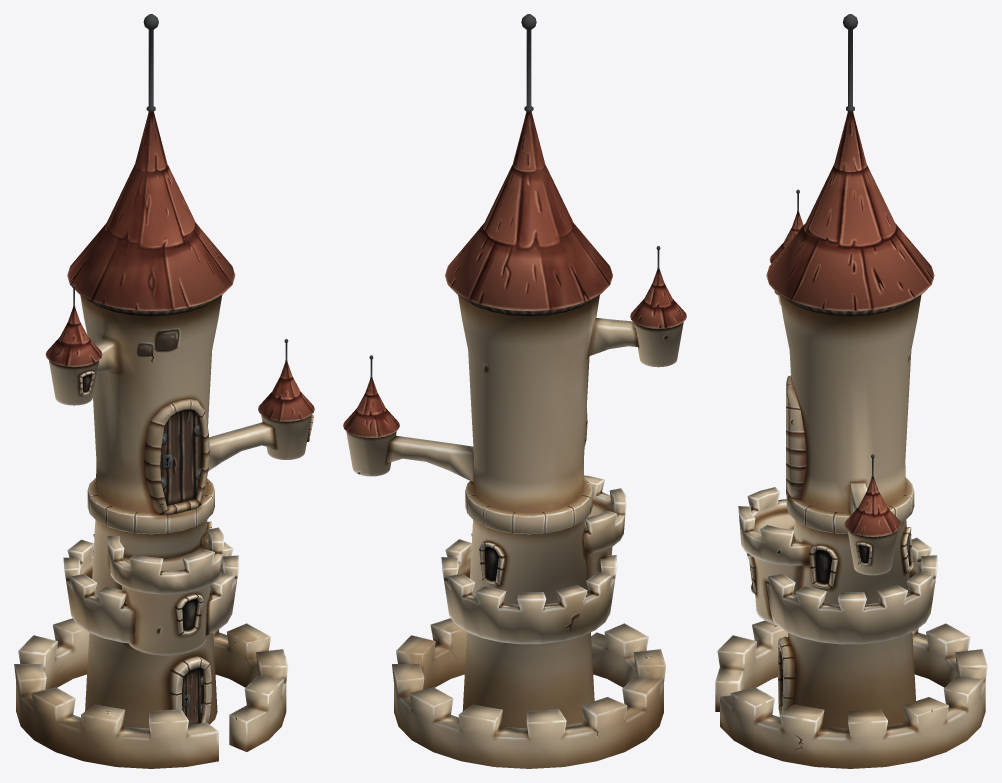
File: Tower.obj
3 renders of one model, left to right at view 1: azimuth 30°, elevation 25°; view 2: azimuth 150°, elevation 25°; view 3: azimuth 270°, elevation 25°, orthographic.
Parts seen in each view (by area): view 1: Wall; view 2: Wall; view 3: Wall.
Part boxes in pixels (x1,y1,x2,y2): Wall: [14, 14, 314, 768]; Wall: [343, 14, 686, 768]; Wall: [715, 14, 987, 768].
Size of the model in its own units: 5.21 by 11.61 by 4.11.
Materials: 1 (1 with a texture image).
